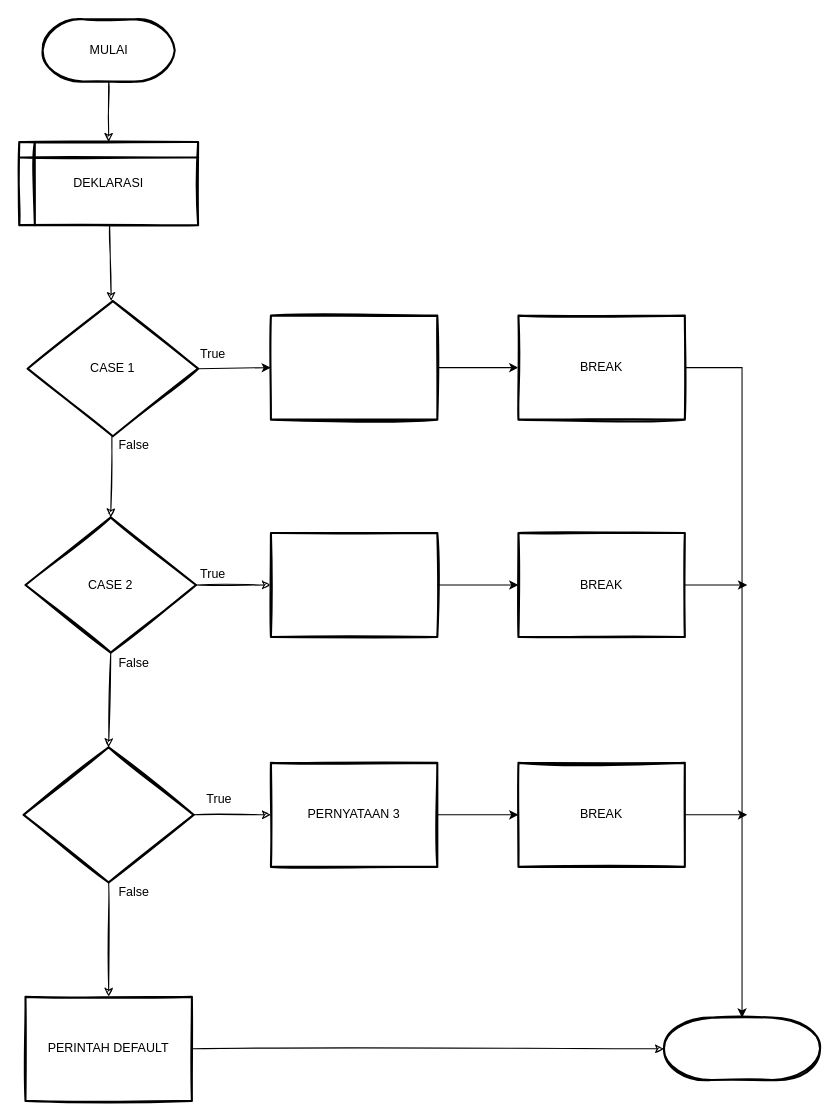
Some shapes in this 838 by 1119 pixel diagram are drawn without their labels. Here are the shapes that lost their labels. From the top down, the box of each, then its label:
(269, 314, 438, 420): PERNYATAAN 1
(269, 531, 438, 638): PERNYATAAN 2
(22, 746, 194, 883): CASE 3
(662, 1016, 821, 1081): SELESAI
